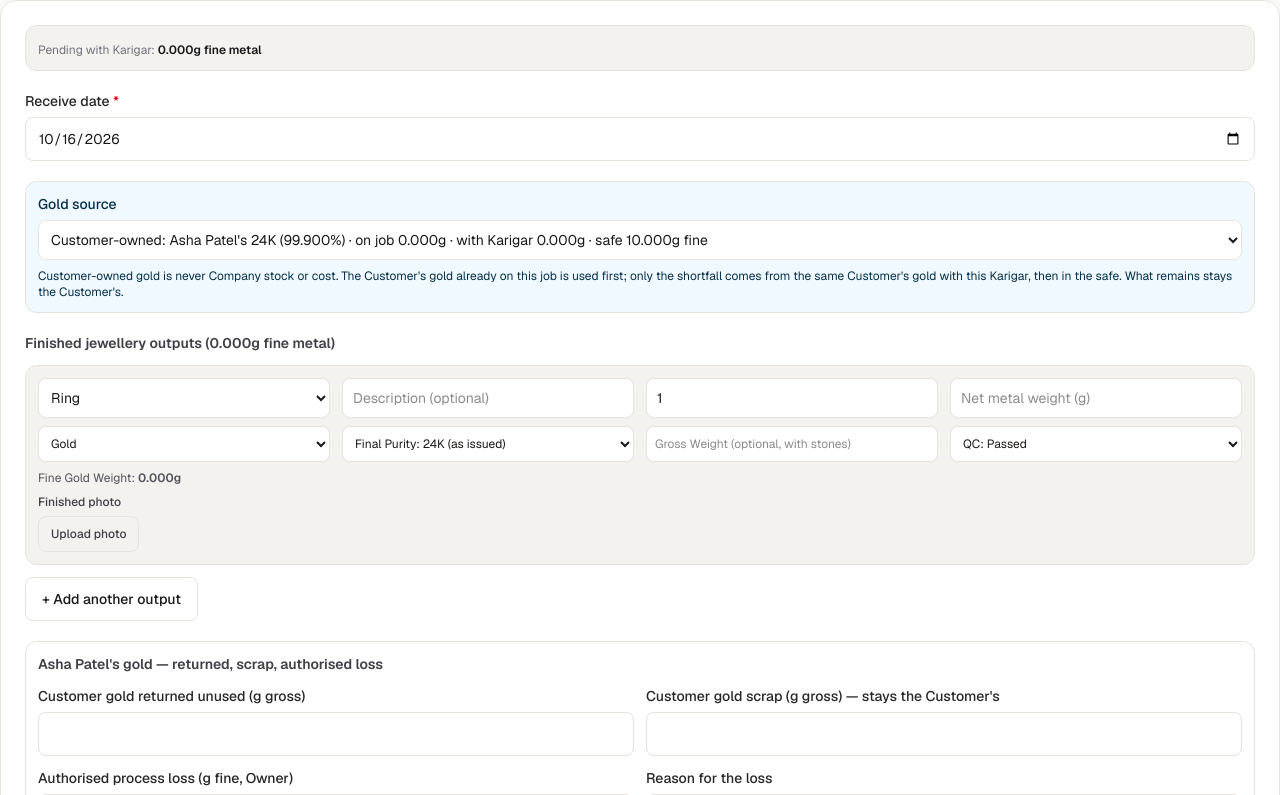
Test case: ReceiveFinishedForm — Customer-owned gold › a Customer's job with no Company metal defaults to the Customer's gold even when the Karigar also holds Company metal; 'Company gold' is one choice away
Select "Company gold (not the Customer's)" in the dropdown named "Customer gold source": point(640, 240) [38,220,1242,260]
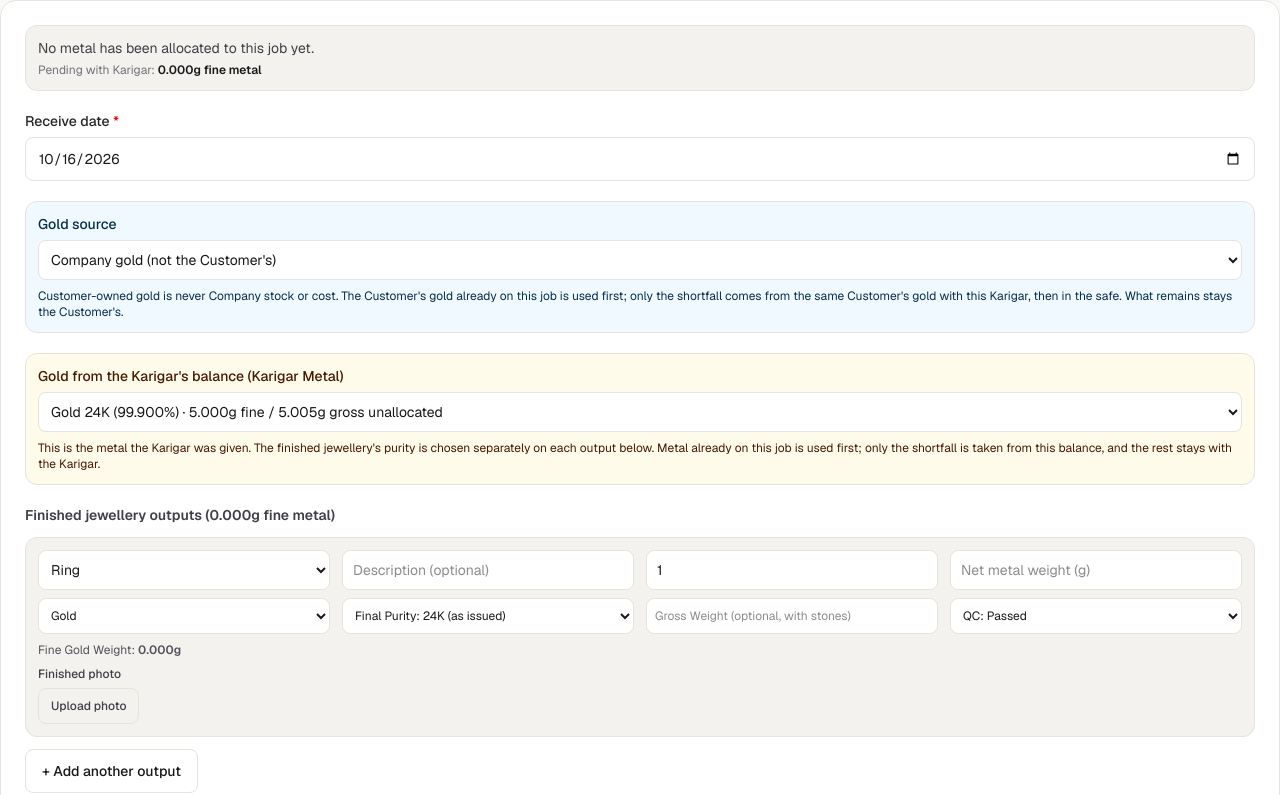
Result: the dropdown named "Karigar Metal source" shows "Gold 24K (99.900%) · 5.000g fine / 5.005g gross unallocated" at [38,392,1242,432]
